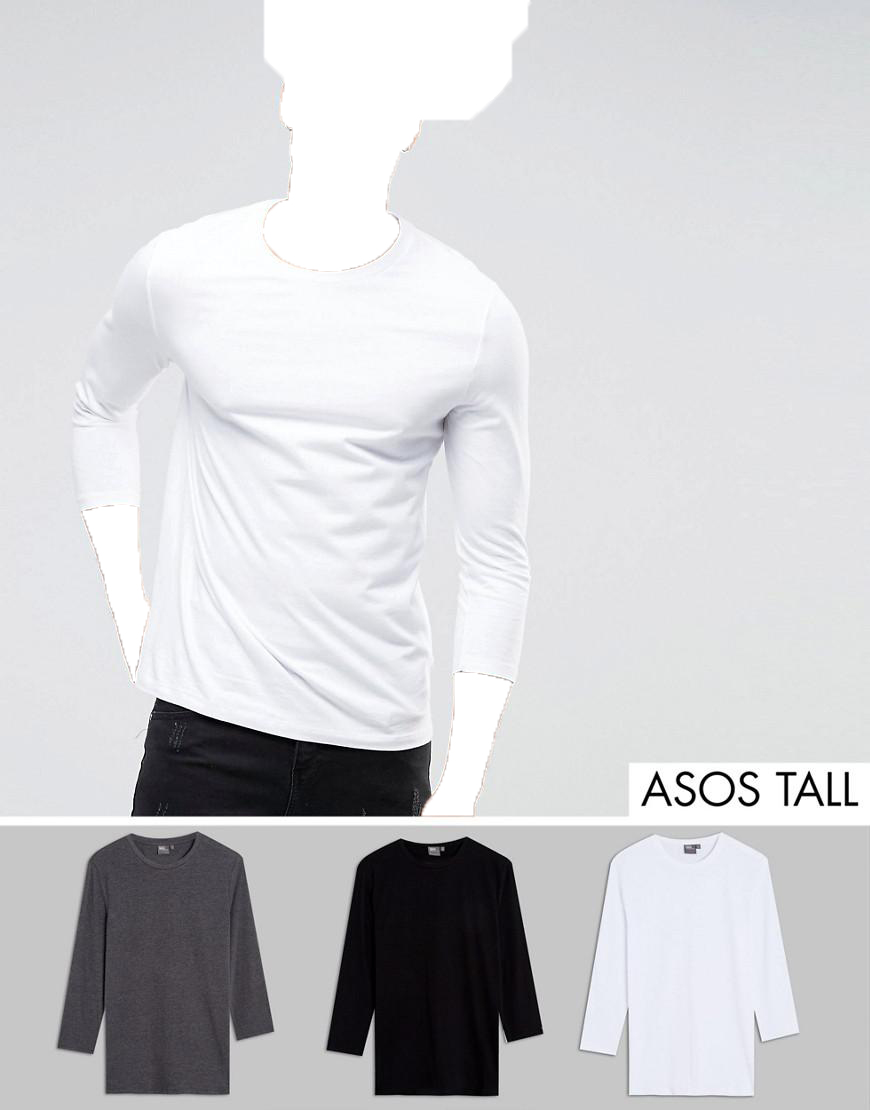teeshirt: (68, 196, 559, 761), (305, 837, 551, 1110), (576, 830, 817, 1107), (49, 835, 282, 1110)
